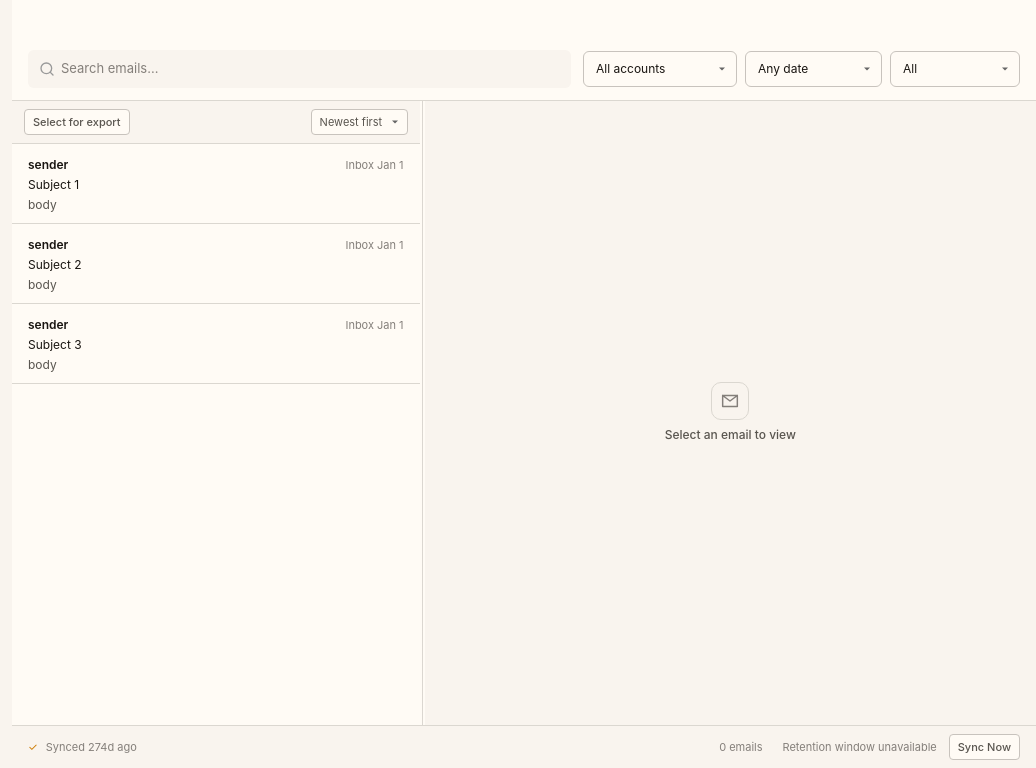
Test: archive reliability › late export cancellation reports a saved file instead of claiming cancellation
Expected: the text "Subject 1" is shown, [28, 177, 79, 192]
Click the button "Select for export".
click(77, 122)  # box [24, 108, 130, 135]
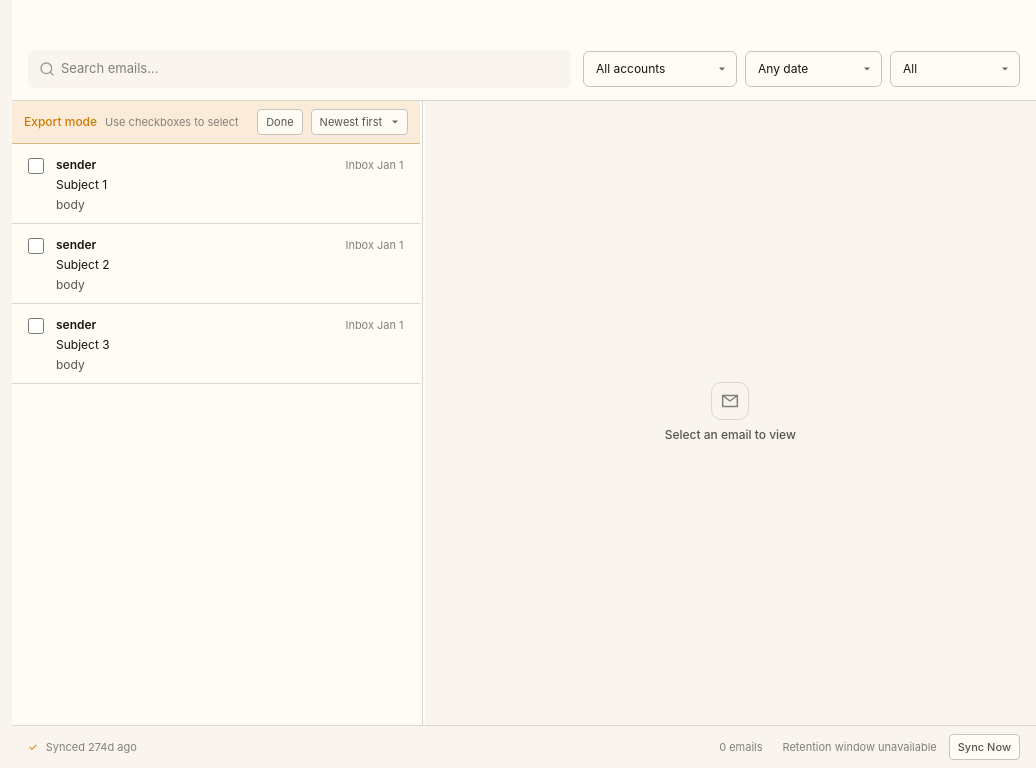
Click the checkbox named "Select Subject 1 for export".
click(36, 166)  # box [28, 158, 44, 174]
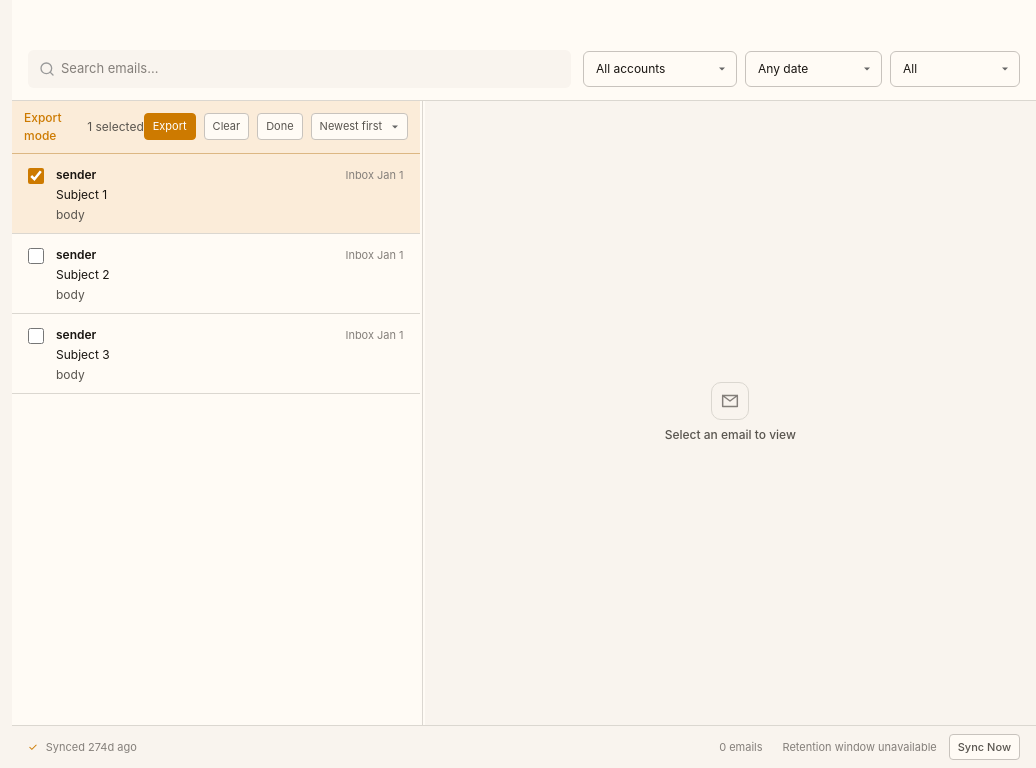
Click the button "Export".
click(170, 127)  # box [144, 113, 196, 140]
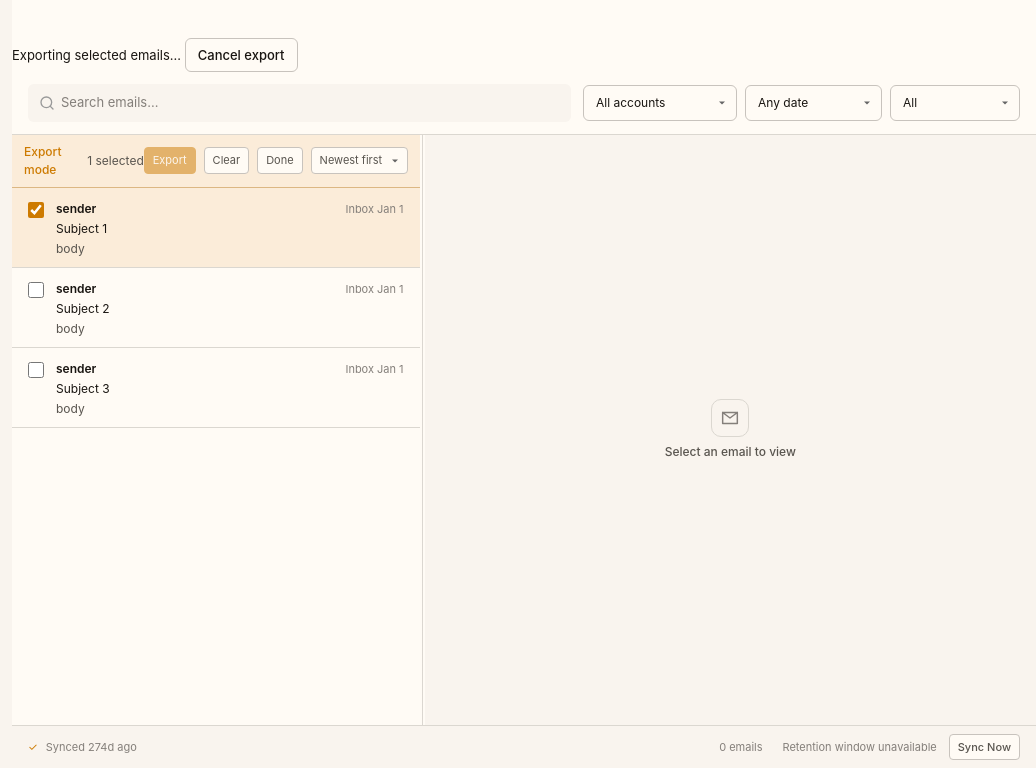
Click the button "Cancel export".
click(241, 55)  # box [185, 38, 298, 72]
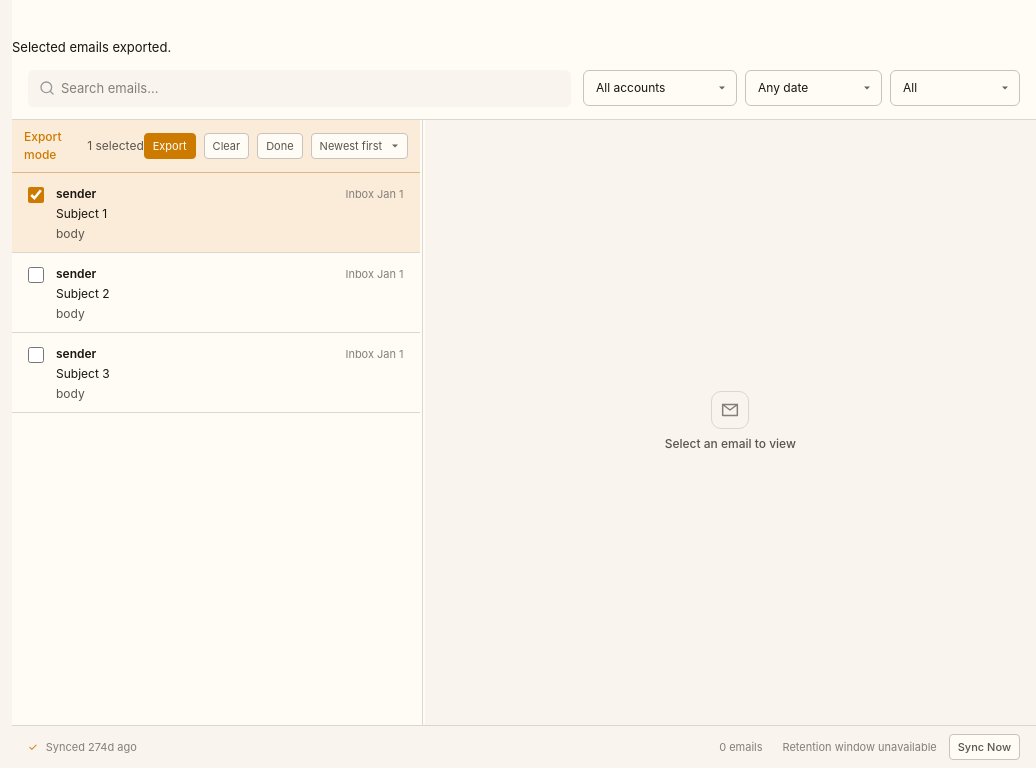
Now the text "Selected emails exported." is shown, box [12, 39, 171, 55]
